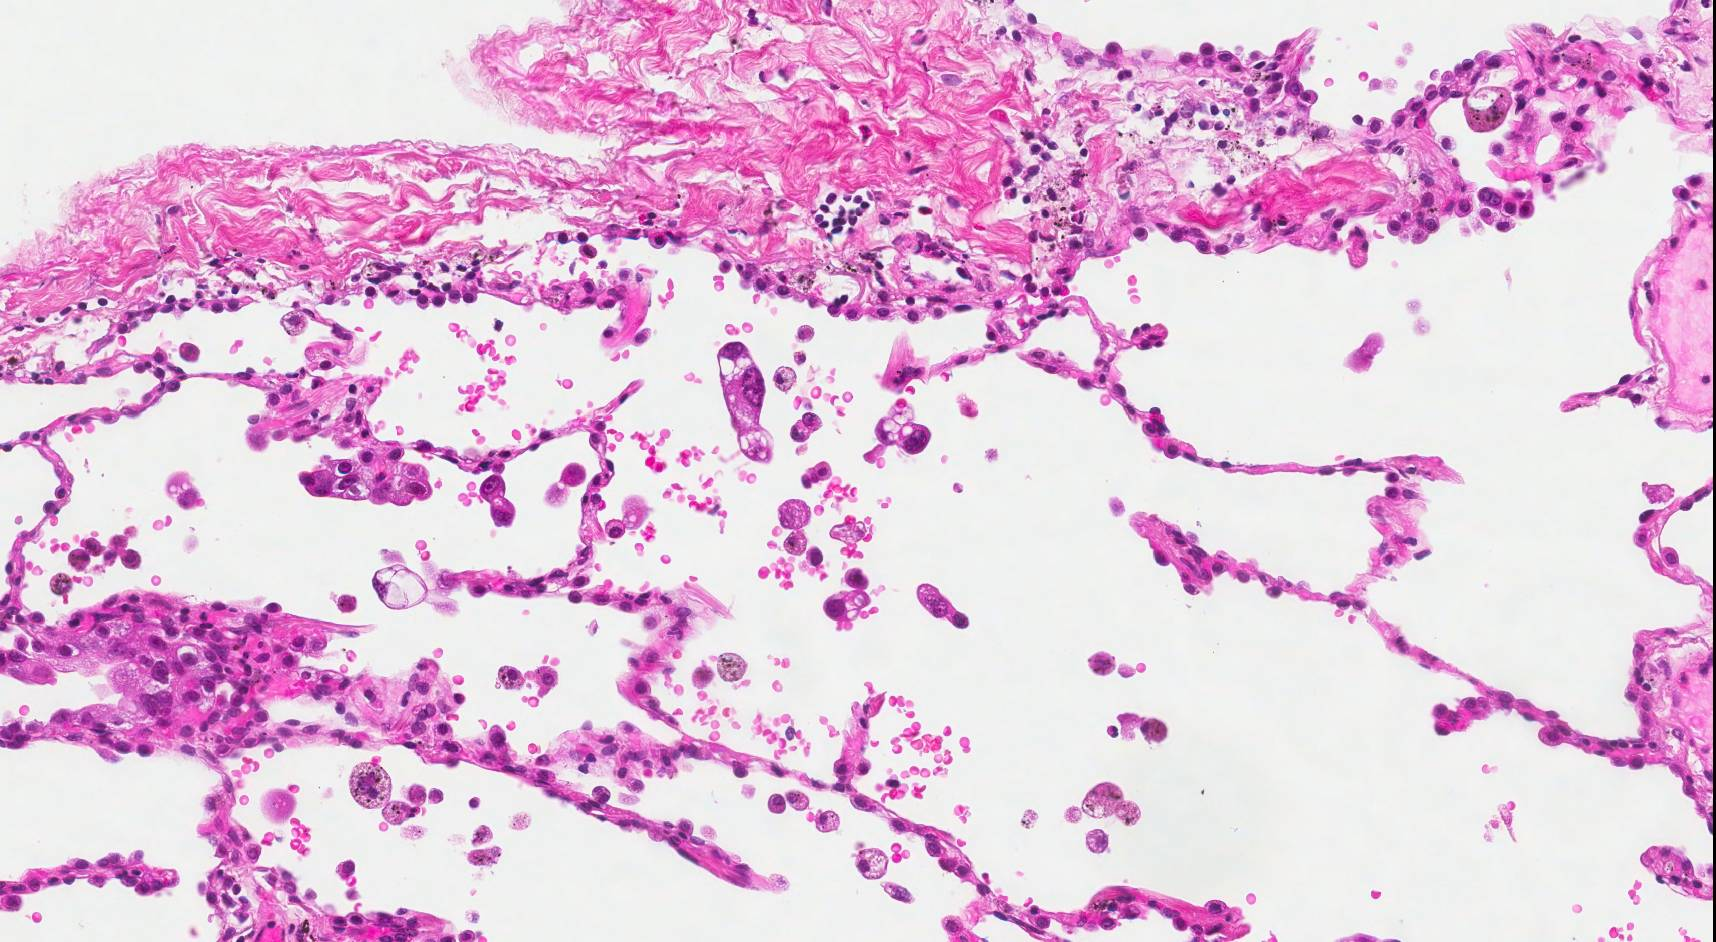stas: (713, 338, 776, 462), (299, 458, 433, 506), (875, 399, 931, 455), (823, 570, 876, 626), (369, 563, 430, 611), (917, 581, 969, 629), (479, 473, 514, 528)
